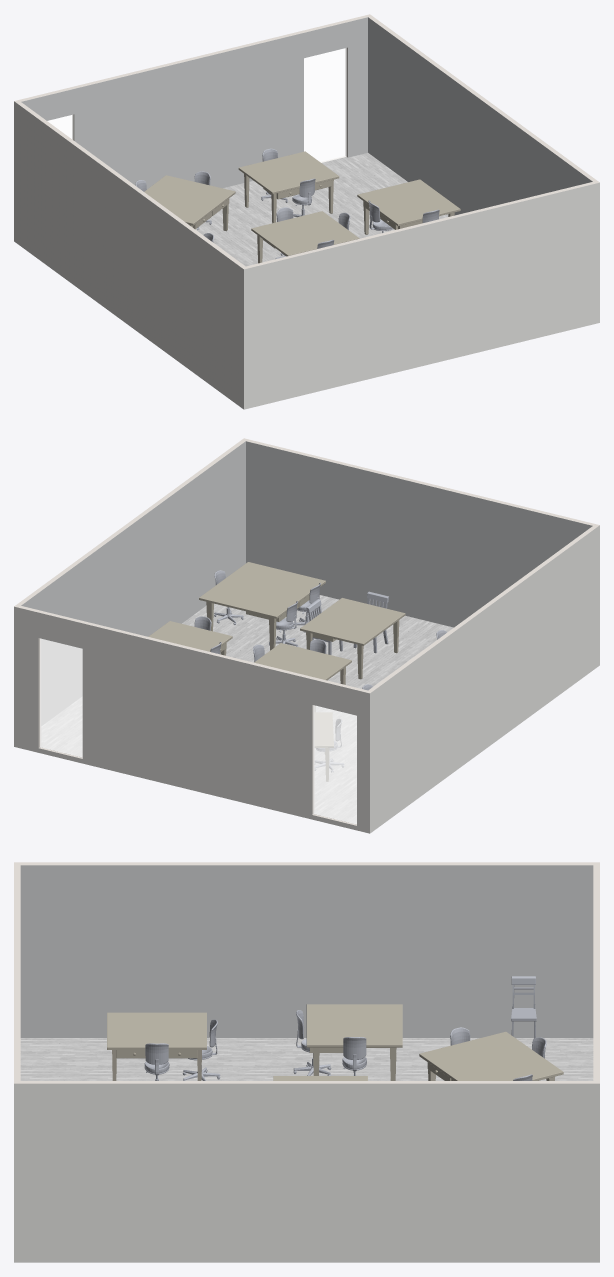
Rendered from Cybersecurity Lab.glb.
The picture shows the model from 3 angles, top to bottom: view 1: azimuth 30°, elevation 25°; view 2: azimuth 150°, elevation 25°; view 3: azimuth 270°, elevation 25°; orthographic projection. The views are drawn at different scales.
Parts seen in each view (by area): view 1: wall_2, wall_1, wall_10, wall_4, floor_Dining_Room, door_0, door_2, table_other_rect1, table_other_rect3, table_other_rect0, table_other_rect4, wall_11 (+3 smaller); view 2: wall_3, wall_8, wall_1, wall_4, floor_Dining_Room, door_1, door_3, door_0, door_2, table_other_rect5, table_other_rect2, table_other_rect0 (+7 smaller); view 3: wall_0, wall_6, floor_Dining_Room, table_other_rect4, table_other_rect6, table_other_rect7, wall_7, wall_5, wall_9, wall_11, chair_other_four_back_no0, chair_swivel_star_back_no8 (+3 smaller).
Boxes of the visible parts, left/top/right/bottom form: wall_2: left=244, top=182, right=599, bottom=409; wall_1: left=14, top=101, right=243, bottom=409; wall_10: left=21, top=17, right=367, bottom=189; wall_4: left=368, top=17, right=592, bottom=215; floor_Dining_Room: left=195, top=153, right=448, bottom=266; door_0: left=304, top=48, right=346, bottom=162; door_2: left=304, top=48, right=346, bottom=162; table_other_rect1: left=238, top=151, right=339, bottom=223; table_other_rect3: left=357, top=179, right=460, bottom=234; table_other_rect0: left=251, top=211, right=359, bottom=263; table_other_rect4: left=144, top=175, right=235, bottom=231; wall_11: left=14, top=14, right=369, bottom=162; wall_3: left=14, top=606, right=369, bottom=833; wall_8: left=246, top=441, right=592, bottom=627; wall_1: left=370, top=525, right=599, bottom=833; wall_4: left=21, top=441, right=245, bottom=725; floor_Dining_Room: left=41, top=595, right=453, bottom=824; door_1: left=313, top=705, right=356, bottom=823; door_3: left=313, top=705, right=356, bottom=823; door_0: left=40, top=638, right=82, bottom=757; door_2: left=40, top=639, right=82, bottom=756; table_other_rect5: left=199, top=562, right=325, bottom=650; table_other_rect2: left=300, top=598, right=405, bottom=679; table_other_rect0: left=254, top=643, right=351, bottom=711; wall_0: left=14, top=1083, right=599, bottom=1262; wall_6: left=20, top=865, right=593, bottom=1037; floor_Dining_Room: left=20, top=1038, right=593, bottom=1080; table_other_rect4: left=419, top=1031, right=563, bottom=1080; table_other_rect6: left=306, top=1004, right=402, bottom=1080; table_other_rect7: left=107, top=1012, right=206, bottom=1080; wall_7: left=14, top=862, right=599, bottom=865; wall_5: left=15, top=1081, right=598, bottom=1083; wall_9: left=14, top=862, right=20, bottom=1083; wall_11: left=593, top=862, right=599, bottom=1083; chair_other_four_back_no0: left=511, top=976, right=536, bottom=1038; chair_swivel_star_back_no8: left=342, top=1037, right=366, bottom=1075.
Bounding box in the file's own units: 8.02 × 3.02 × 8.97.
40 materials, 1 textured.
